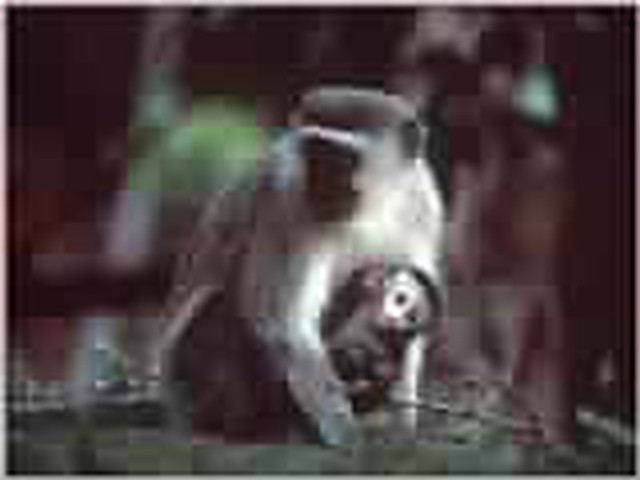Monkey: (149, 73, 456, 458)
